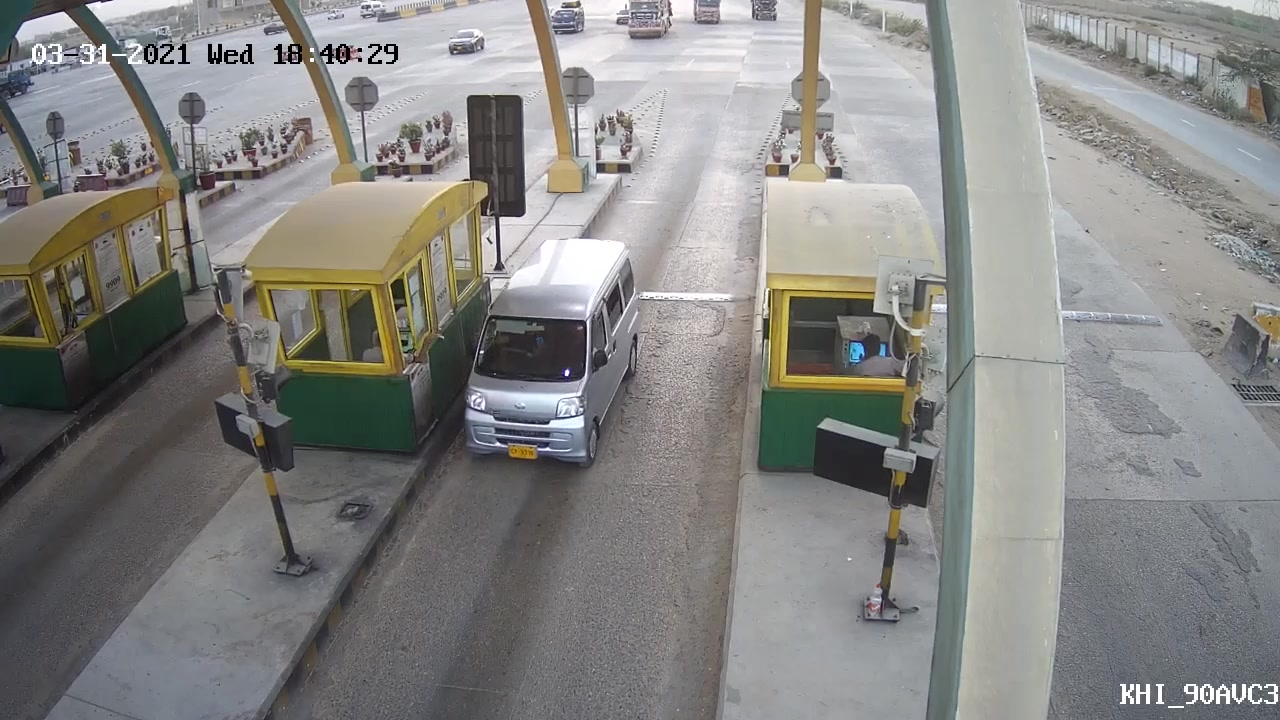F1: (459, 238, 648, 464)
